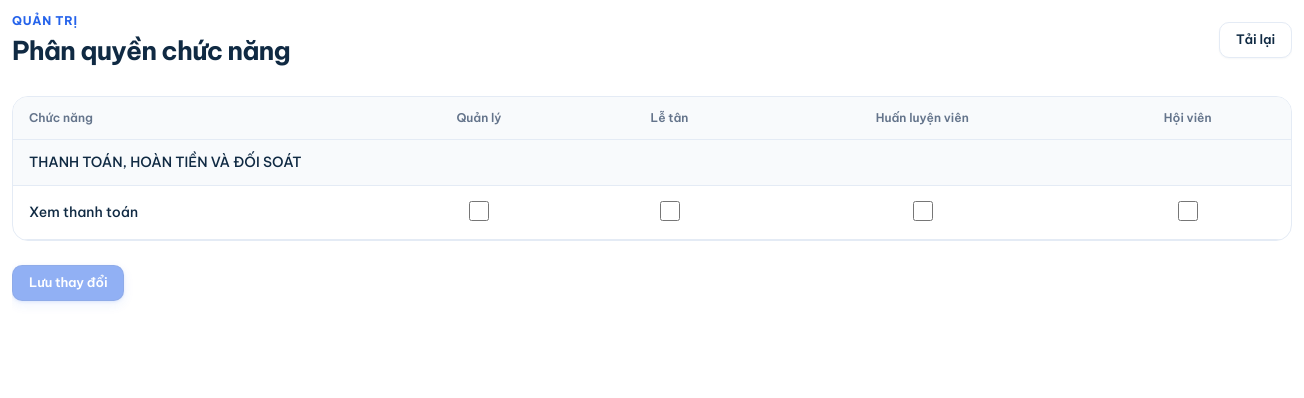
Scenario: Admin role permission matrix › shows a stale-edit conflict without claiming success
Click the checkbox named "Xem thanh toán — manager" at coordinates (479, 211), box [469,201,489,221]
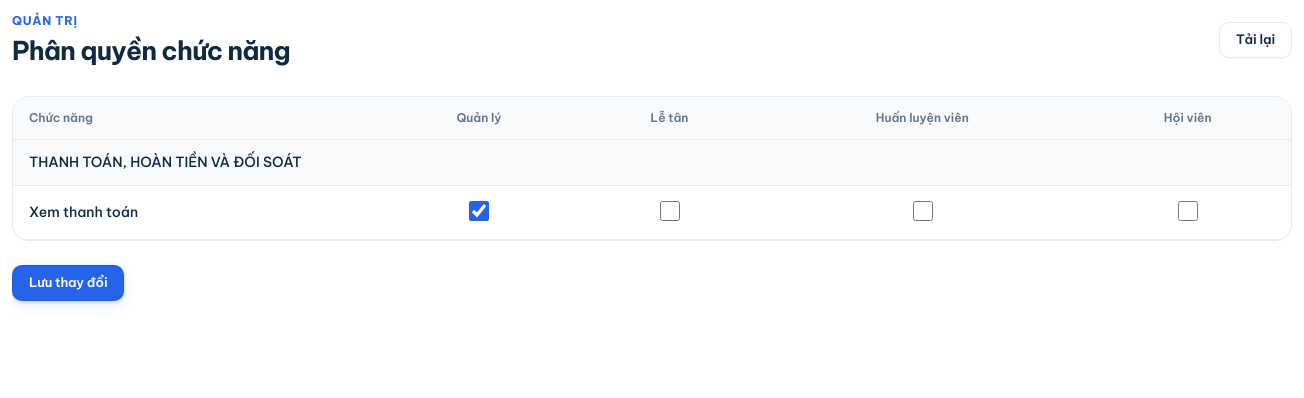
Click the button "Lưu thay đổi" at coordinates (68, 283), box [12,265,124,301]
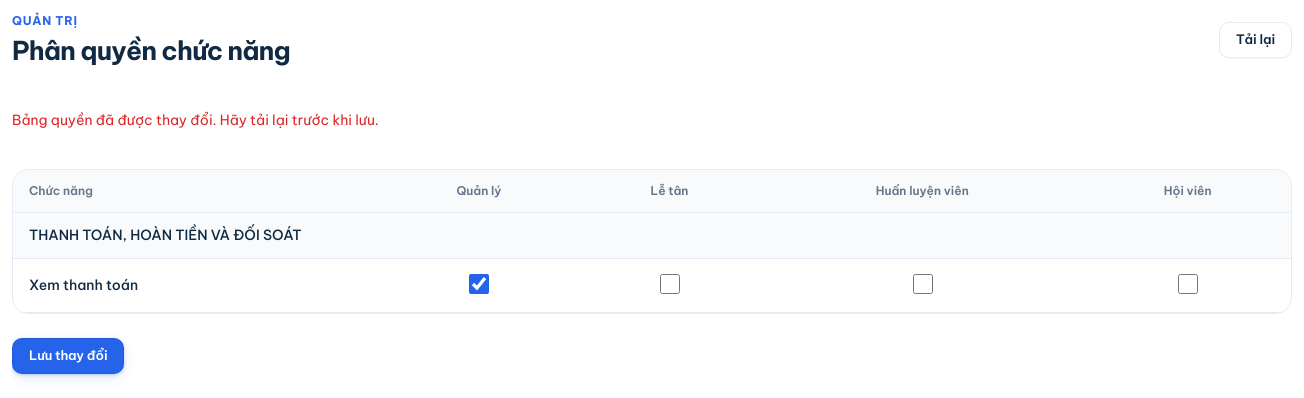
Expected: the message shows "tải lại", [12,111,379,129]
